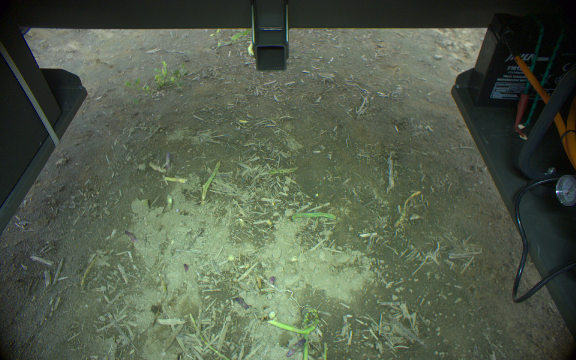aspa: (264, 306, 320, 333), (200, 160, 221, 200), (301, 309, 310, 360), (289, 210, 338, 219), (286, 336, 306, 357)
